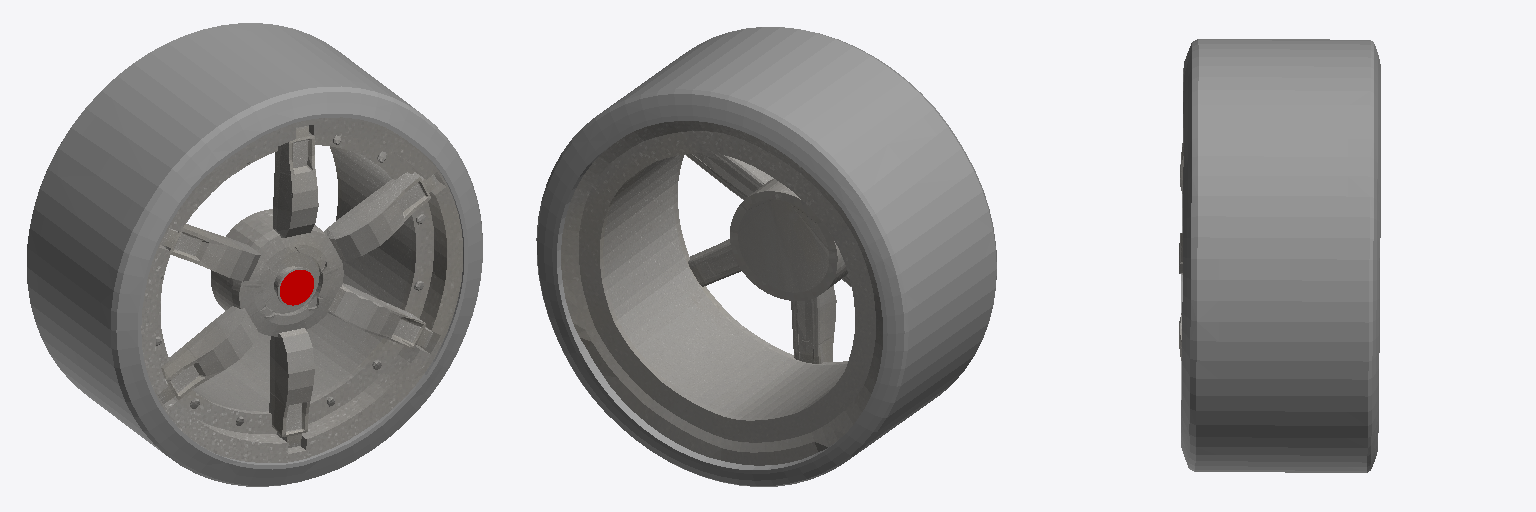
3 views of the same model, side by side, from view 1: azimuth 30°, elevation 25°; view 2: azimuth 150°, elevation 25°; view 3: azimuth 270°, elevation 25° (orthographic).
Parts seen in each view (by area): view 1: Silencer_Wheel.000_Circle.000; view 2: Silencer_Wheel.000_Circle.000; view 3: Silencer_Wheel.000_Circle.000.
Boxes of the visible parts, x1=… form: Silencer_Wheel.000_Circle.000: x1=27, y1=23, x2=482, y2=486; Silencer_Wheel.000_Circle.000: x1=536, y1=27, x2=996, y2=486; Silencer_Wheel.000_Circle.000: x1=1179, y1=39, x2=1380, y2=472.
Bounding box in the file's own units: 1.06 × 1.06 × 0.499.
4 materials, 2 textured.